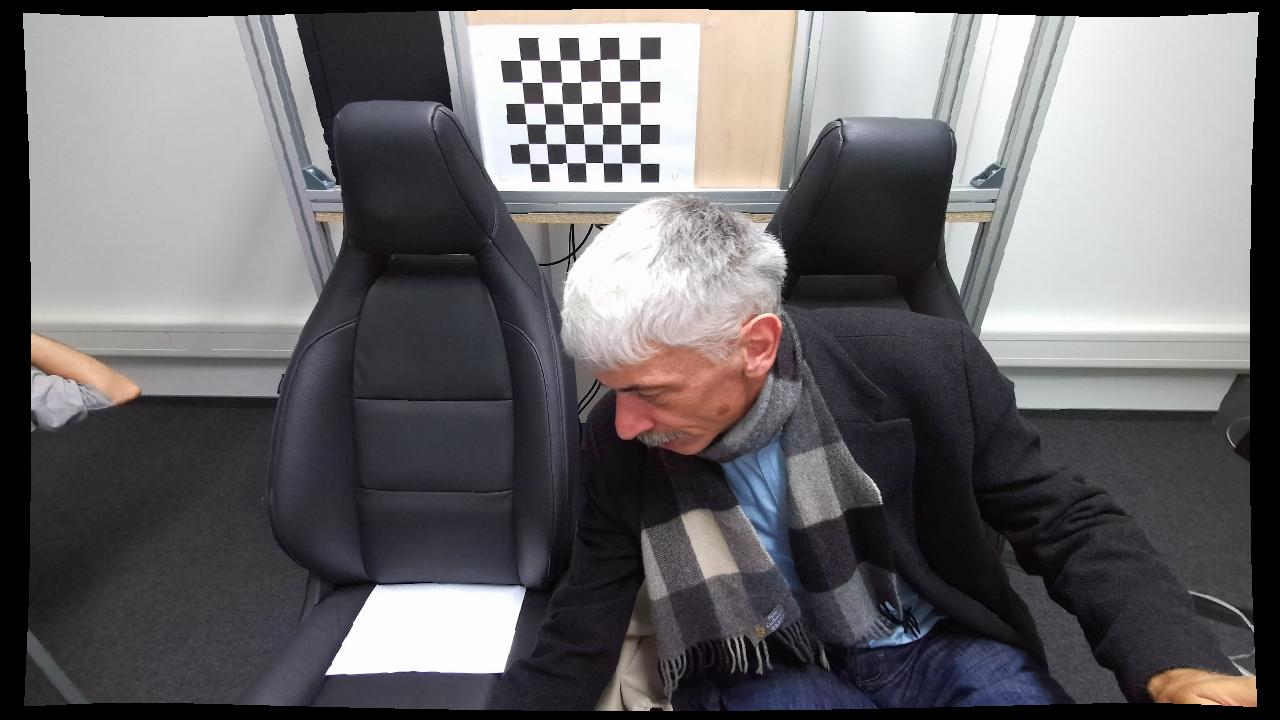Distracted: (484, 199, 1244, 710)
